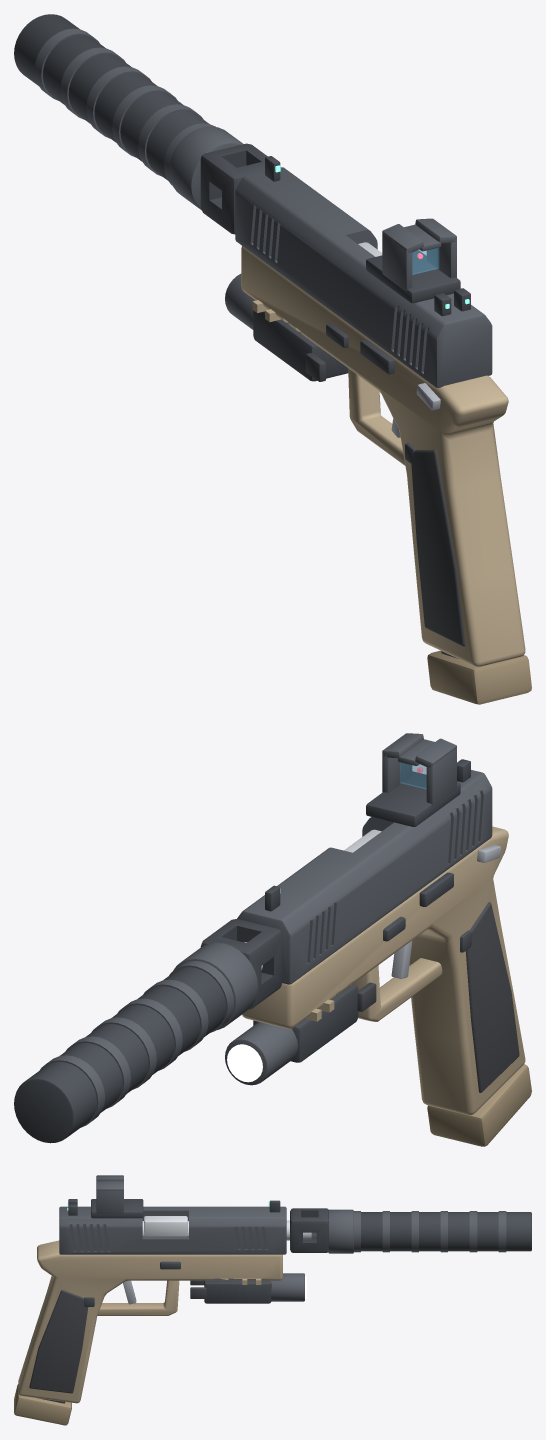
The model's file is pistol_m17x.glb.
The picture shows the model from 3 angles, top to bottom: view 1: azimuth 30°, elevation 25°; view 2: azimuth 150°, elevation 25°; view 3: azimuth 270°, elevation 25°; orthographic projection. The views are drawn at different scales.
Parts seen in each view (by area): view 1: FrameBody, SlideBody, SupBody, GripStipple, MagBasepad, Compensator, SupCollar, TacLightBody, TriggerGuard, RMR_Base, RMR_WallL, TacLightBezel (+6 smaller); view 2: FrameBody, SlideBody, SupBody, GripStipple, MagBasepad, Compensator, RMR_Base, SupCollar, TriggerGuard, TacLightBody, TacLightBezel, RMR_WallL (+13 smaller); view 3: FrameBody, SlideBody, SupBody, GripStipple, Compensator, TacLightBody, TriggerGuard, MagBasepad, SupCollar, BarrelHood, TacLightBezel, RMR_Base (+6 smaller).
Part boxes in pixels (x1,y1,x2,y2): FrameBody: (241, 246, 525, 666); SlideBody: (235, 167, 492, 387); SupBody: (14, 14, 208, 180); GripStipple: (411, 449, 465, 646); MagBasepad: (427, 650, 531, 704); Compensator: (200, 143, 267, 234); SupCollar: (169, 126, 243, 210); TacLightBody: (253, 310, 348, 381); TriggerGuard: (348, 368, 405, 465); RMR_Base: (366, 250, 460, 303); RMR_WallL: (382, 233, 412, 290); TacLightBezel: (225, 273, 255, 329); FrameBody: (242, 826, 525, 1115); SlideBody: (237, 770, 492, 984); SupBody: (14, 967, 226, 1143); GripStipple: (465, 902, 519, 1092); MagBasepad: (427, 1064, 531, 1146); Compensator: (200, 919, 282, 1009); RMR_Base: (366, 771, 460, 826); SupCollar: (173, 942, 258, 1029); TriggerGuard: (353, 958, 442, 1021); TacLightBody: (253, 984, 358, 1062); TacLightBezel: (225, 1022, 297, 1085); RMR_WallL: (426, 748, 456, 805); FrameBody: (18, 1240, 282, 1403); SlideBody: (59, 1206, 286, 1254); SupBody: (361, 1212, 531, 1251); GripStipple: (29, 1290, 88, 1393); Compensator: (290, 1208, 328, 1252); TacLightBody: (204, 1278, 271, 1303); TriggerGuard: (97, 1280, 179, 1315); MagBasepad: (14, 1384, 71, 1425); SupCollar: (328, 1209, 353, 1253); BarrelHood: (144, 1216, 187, 1236); TacLightBezel: (270, 1273, 304, 1301); RMR_Base: (91, 1199, 143, 1218).
Bounding box in the file's own units: 0.0383 × 0.2266 × 0.4464.
